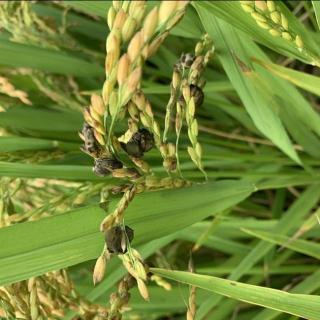Gosong-Palsu: (120, 126, 156, 158), (104, 221, 134, 255), (175, 82, 206, 110), (91, 154, 121, 178), (79, 120, 99, 154), (173, 51, 198, 73)
